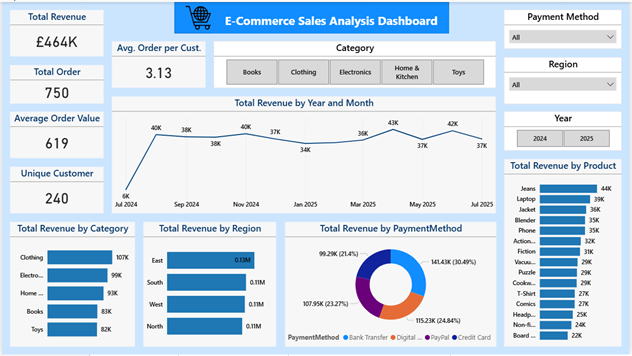

This screenshot's page, from the dashboard's own definition file:
{"tool":"powerbi","page":{"name":"Dashboard","canvas":[1280,720],"ordinal":4},"visuals":[{"type":"shape","box":[352,0,560,64],"z":0,"group":"g1"},{"type":"slicer","title":"Category","fields":{"Values":["ecommerce_dataset.Category"]},"box":[432,80,576,96],"z":1000},{"type":"slicer","title":"Region","fields":{"Values":["ecommerce_dataset.Region"]},"box":[1024,112,240,96],"z":2000},{"type":"slicer","title":"Year","fields":{"Values":["ecommerce_dataset.Year"]},"box":[1024,224,240,80],"z":3000},{"type":"slicer","title":"Payment Method","fields":{"Values":["ecommerce_dataset.PaymentMethod"]},"box":[1024,16,240,80],"z":4000},{"type":"barChart","fields":{"Y":["ecommerce_dataset.Total Revenue"],"Category":["ecommerce_dataset.Category"]},"box":[16,448,256,256],"z":5000},{"type":"barChart","fields":{"Category":["ecommerce_dataset.Region"],"Y":["ecommerce_dataset.Total Revenue"]},"box":[288,448,272,256],"z":6000},{"type":"donutChart","fields":{"Category":["ecommerce_dataset.PaymentMethod"],"Y":["ecommerce_dataset.Total Revenue"]},"box":[576,448,432,256],"z":7000},{"type":"barChart","fields":{"Y":["ecommerce_dataset.Total Revenue"],"Category":["ecommerce_dataset.Product"]},"box":[1024,320,240,384],"z":8000},{"type":"lineChart","fields":{"Y":["ecommerce_dataset.Total Revenue"],"Category":["ecommerce_dataset.OrderDate.Variation.Date Hierarchy.Year","ecommerce_dataset.OrderDate.Variation.Date Hierarchy.Month"]},"box":[224,192,784,240],"z":9000},{"type":"card","title":"Total Order","fields":{"Values":["ecommerce_dataset.Total Order"]},"box":[16,128,192,80],"z":10000},{"type":"card","title":"Total Revenue","fields":{"Values":["ecommerce_dataset.Total Revenue"]},"box":[16,16,192,96],"z":11000},{"type":"card","title":"Average Order Value","fields":{"Values":["ecommerce_dataset.Avg Order Value"]},"box":[16,224,192,96],"z":12000},{"type":"card","title":"Unique Customer","fields":{"Values":["ecommerce_dataset.Uniques Customer"]},"box":[16,336,192,96],"z":13000},{"type":"card","title":"Avg. Order per Cust.","fields":{"Values":["ecommerce_dataset.Avg Order per Customer"]},"box":[224,80,192,96],"z":14000},{"type":"textbox","box":[432,16,480,48],"z":15000,"group":"g1"},{"type":"image","box":[352,0,96,64],"z":15001,"group":"g1"},{"type":"group","id":"g1","title":"Group 1","box":[352,0,560,64],"z":15002}]}

Visuals, with their boxes in screenshot pixels (x1, y1, x2, y2), scaled from the page's 1280x720 canvas onto the 632x356 screenshot:
shape: [left=174, top=0, right=450, bottom=32]
"Category" slicer: [left=213, top=40, right=498, bottom=87]
"Region" slicer: [left=506, top=55, right=624, bottom=103]
"Year" slicer: [left=506, top=111, right=624, bottom=150]
"Payment Method" slicer: [left=506, top=8, right=624, bottom=47]
barChart - ecommerce_dataset.Total Revenue x ecommerce_dataset.Category: [left=8, top=222, right=134, bottom=348]
barChart - ecommerce_dataset.Region x ecommerce_dataset.Total Revenue: [left=142, top=222, right=276, bottom=348]
donutChart - ecommerce_dataset.PaymentMethod x ecommerce_dataset.Total Revenue: [left=284, top=222, right=498, bottom=348]
barChart - ecommerce_dataset.Total Revenue x ecommerce_dataset.Product: [left=506, top=158, right=624, bottom=348]
lineChart - ecommerce_dataset.Total Revenue x ecommerce_dataset.OrderDate.Variation.Date Hierarchy.Year: [left=111, top=95, right=498, bottom=214]
"Total Order" card: [left=8, top=63, right=103, bottom=103]
"Total Revenue" card: [left=8, top=8, right=103, bottom=55]
"Average Order Value" card: [left=8, top=111, right=103, bottom=158]
"Unique Customer" card: [left=8, top=166, right=103, bottom=214]
"Avg. Order per Cust." card: [left=111, top=40, right=205, bottom=87]
textbox: [left=213, top=8, right=450, bottom=32]
image: [left=174, top=0, right=221, bottom=32]
"Group 1" group: [left=174, top=0, right=450, bottom=32]
